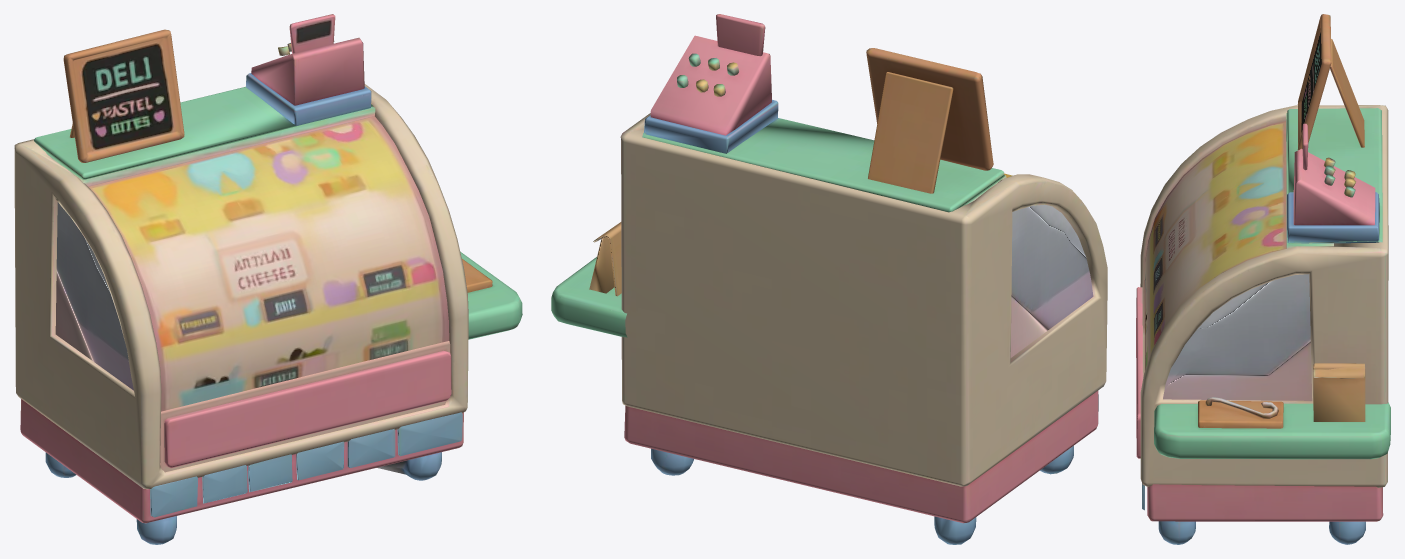
File: teknel-cheese-case.glb
3 views of the same model, side by side, from view 1: azimuth 30°, elevation 25°; view 2: azimuth 150°, elevation 25°; view 3: azimuth 270°, elevation 25° (orthographic). The views are drawn at different scales.
Parts seen in each view (by area): view 1: geometry_0; view 2: geometry_0; view 3: geometry_0.
Part boxes in pixels (x1,y1,x2,y2): geometry_0: [14, 14, 522, 544]; geometry_0: [551, 14, 1107, 544]; geometry_0: [1136, 14, 1390, 544].
Size of the model in its own units: 0.9718 by 1 by 0.5744.
Materials: 1 (1 with a texture image).
